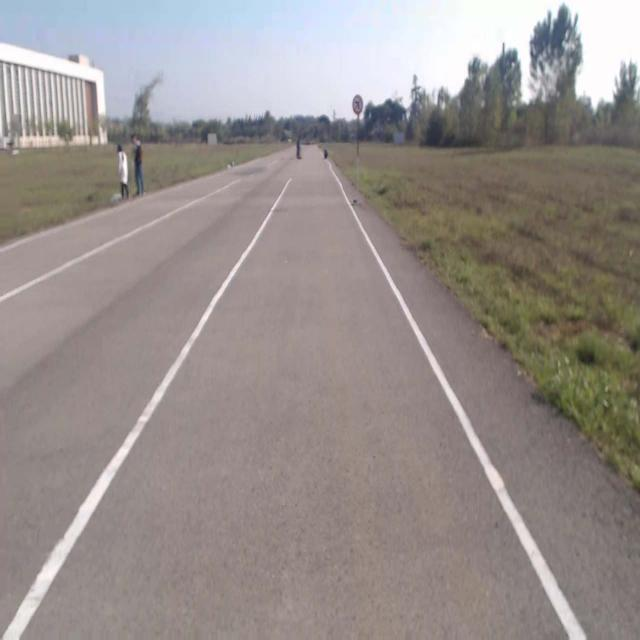soladonulmez: (354, 94, 364, 115)
